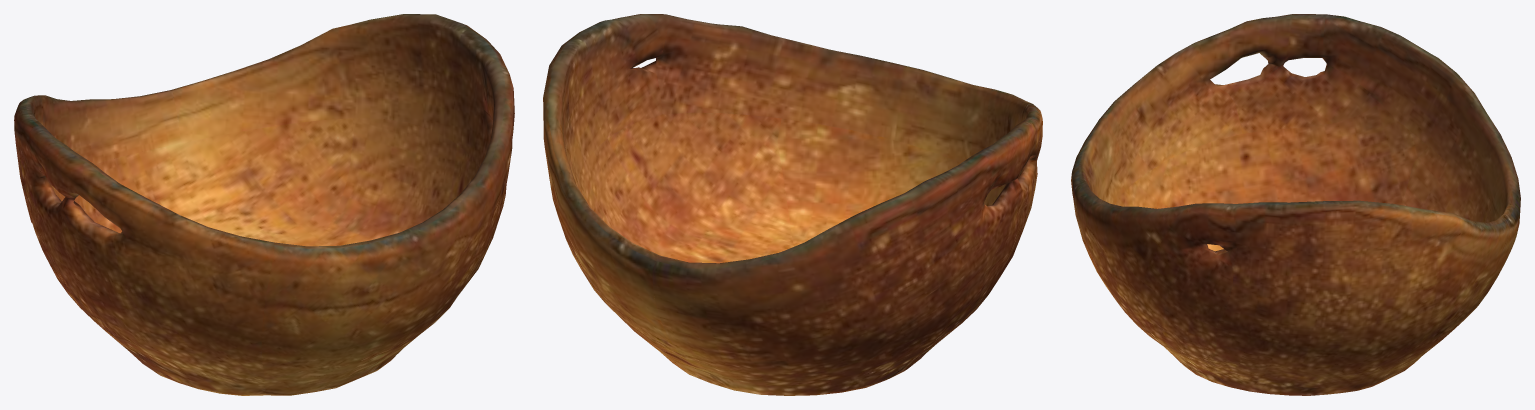
File: wooden_bowl_02.glb
3 views of the same model, side by side, from view 1: azimuth 30°, elevation 25°; view 2: azimuth 150°, elevation 25°; view 3: azimuth 270°, elevation 25° (orthographic). The views are drawn at different scales.
Parts seen in each view (by area): view 1: wooden_bowl_02; view 2: wooden_bowl_02; view 3: wooden_bowl_02.
Boxes of the visible parts, x1,y1,x2,y2 form: wooden_bowl_02: (14,14,514,395); wooden_bowl_02: (543,14,1042,395); wooden_bowl_02: (1071,14,1520,395).
Size of the model in its own units: 0.1307 by 0.0731 by 0.1245.
Materials: 1 (1 with a texture image).
